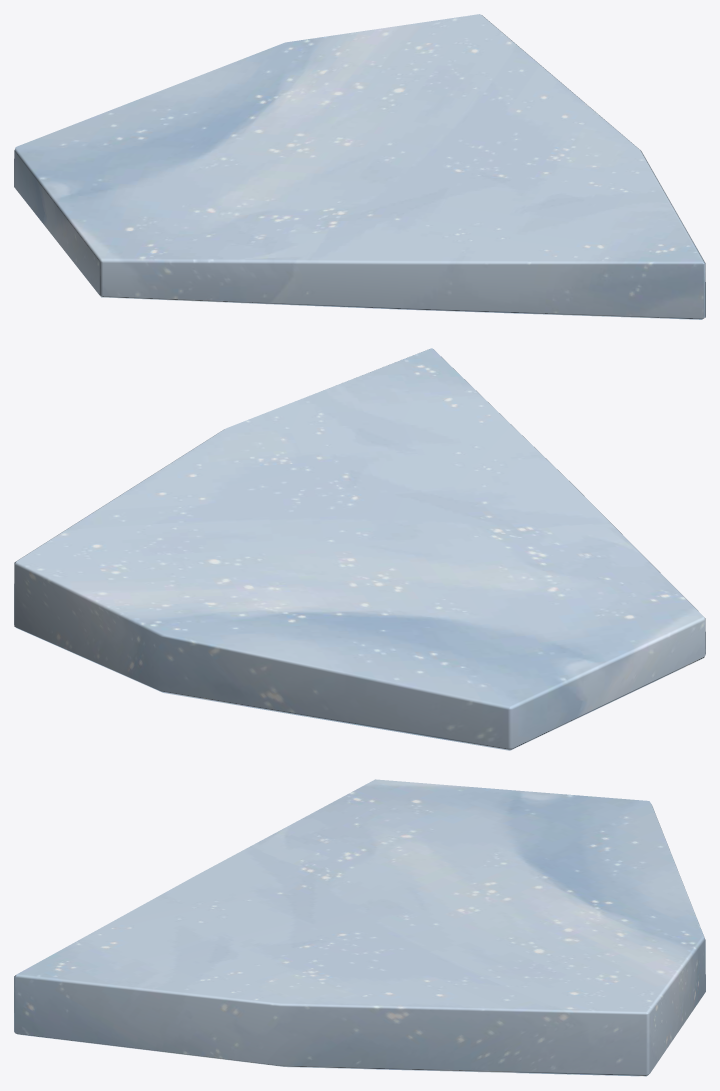
The model's file is P_ENV_ice_06.gltf.
3 renders of one model, top to bottom at view 1: azimuth 30°, elevation 25°; view 2: azimuth 150°, elevation 25°; view 3: azimuth 270°, elevation 25°, orthographic. The views are drawn at different scales.
Parts seen in each view (by area): view 1: P_ENV_ice_06(Clone); view 2: P_ENV_ice_06(Clone); view 3: P_ENV_ice_06(Clone).
Part boxes in pixels (box(x1,y1,x2,y2)): P_ENV_ice_06(Clone): box(14, 14, 705, 319); P_ENV_ice_06(Clone): box(14, 348, 705, 750); P_ENV_ice_06(Clone): box(14, 779, 705, 1076).
Bounding box in the file's own units: 1.3 × 0.152 × 1.47.
Materials: 1 (1 with a texture image).
